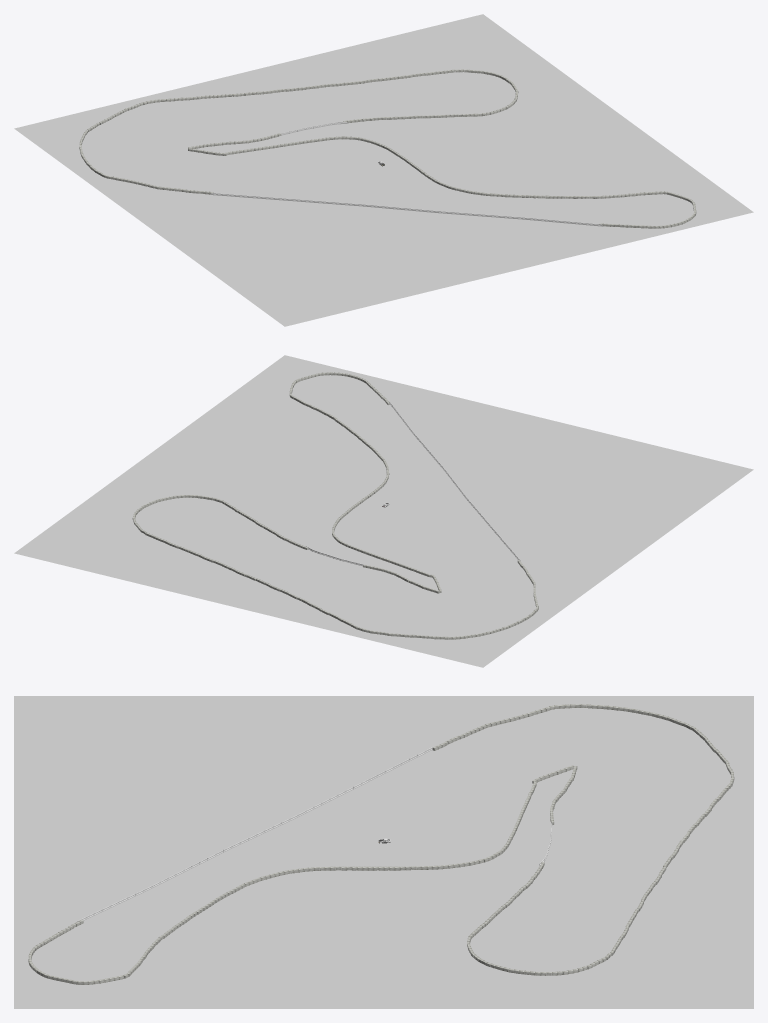
The model's file is tukuba.fbx.
3 renders of one model, top to bottom at view 1: azimuth 30°, elevation 25°; view 2: azimuth 150°, elevation 25°; view 3: azimuth 270°, elevation 25°, orthographic. The views are drawn at different scales.
Visible parts, largest first — view 1: 平面.001; view 2: 平面.001; view 3: 平面.001.
Part boxes in pixels (x1,y1,x2,y2): 平面.001: (14, 14, 753, 326); 平面.001: (14, 355, 753, 667); 平面.001: (14, 696, 753, 1008).
Size of the model in its own units: 51765 by 902 by 51765.
